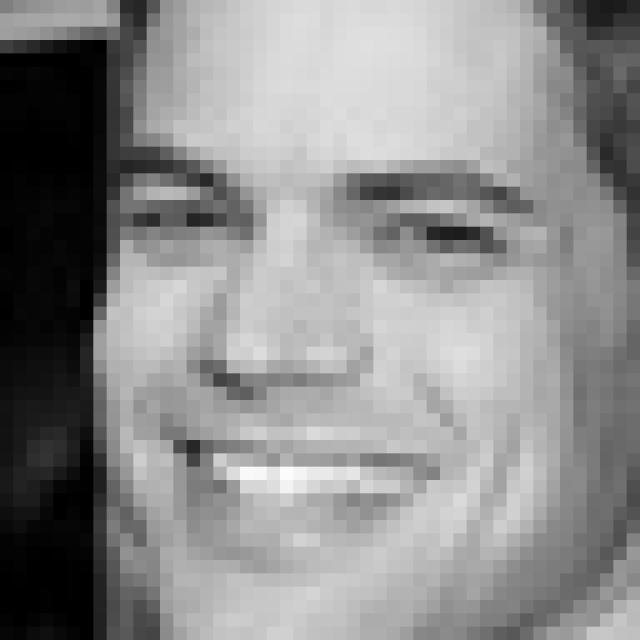happy: (120, 135, 554, 583)
